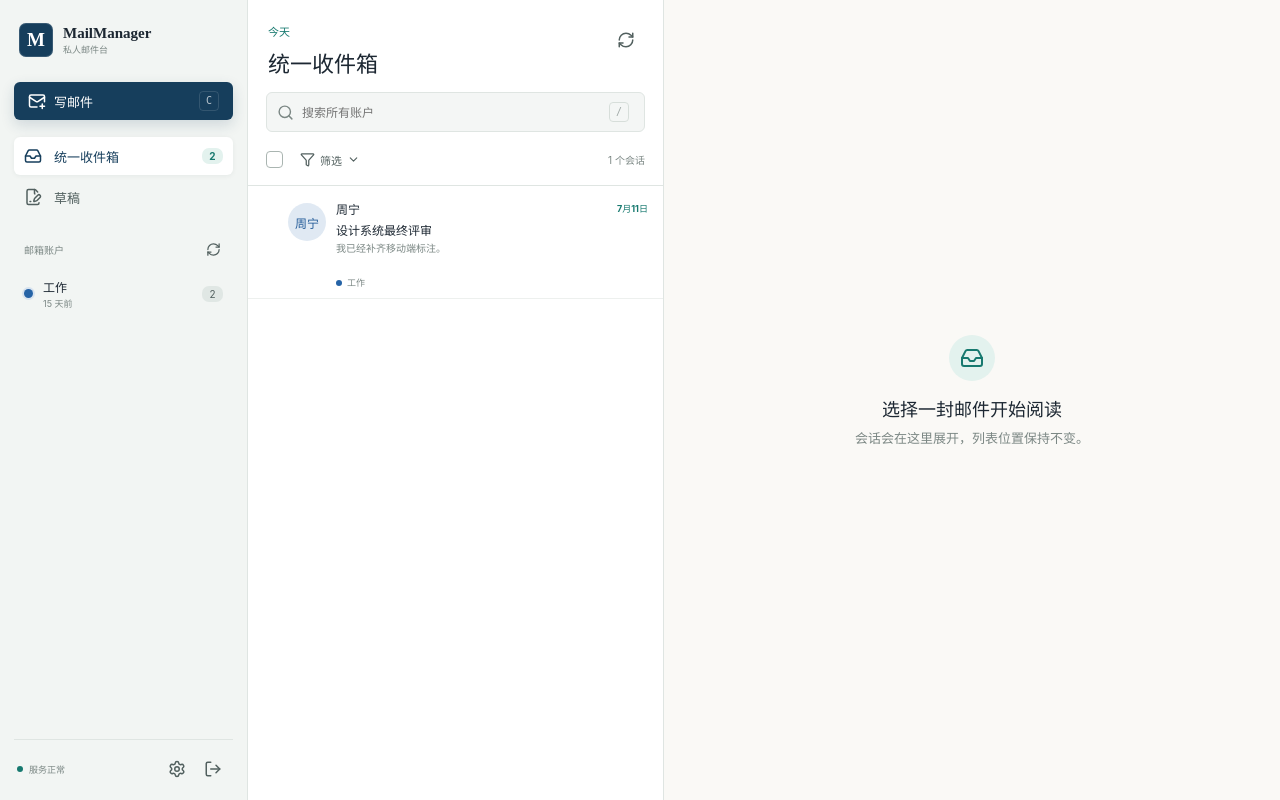
Test: MailManager frontend › recovers an offline draft from the draft list after closing the inline composer
Expected: the heading "统一收件箱" is shown, x1=268 y1=46 x2=378 y2=78
Click the button with class "compose-button": [124, 101] box x1=14 y1=82 x2=233 y2=120
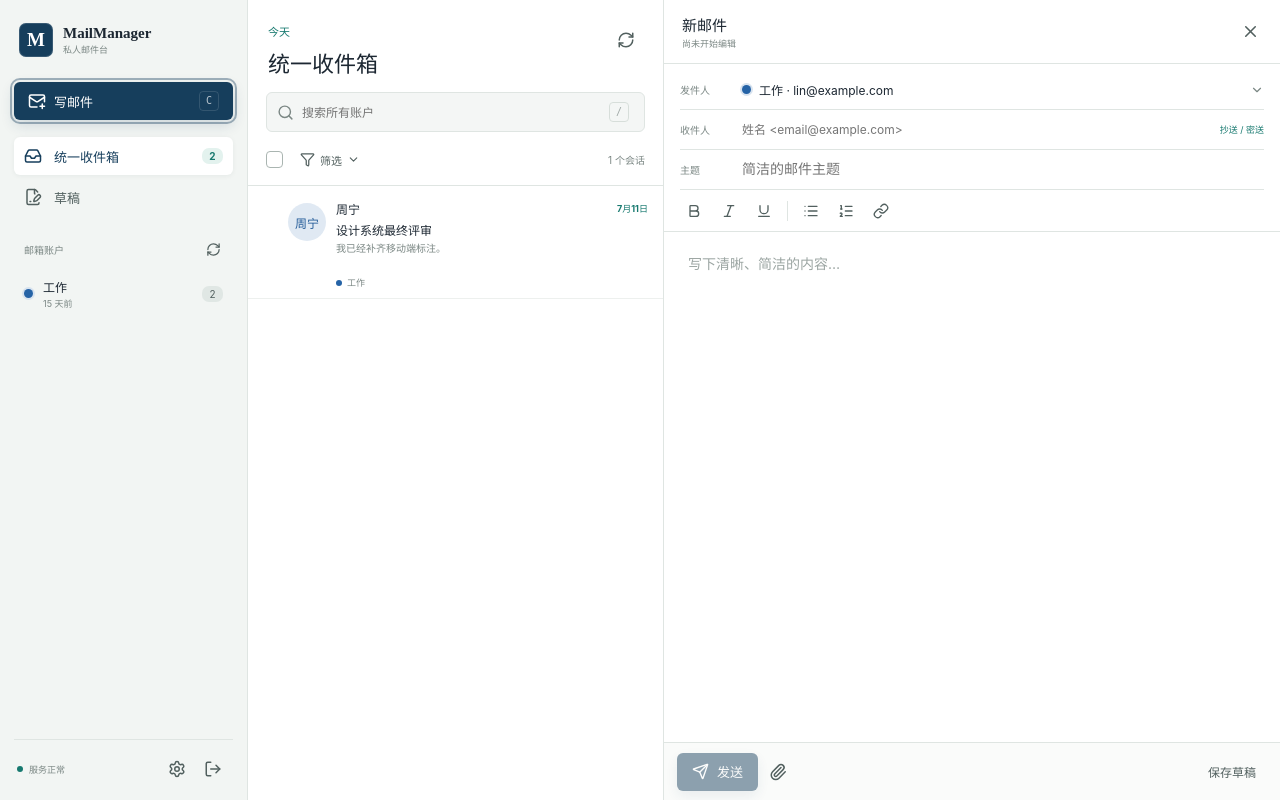
In the field labelled "主题": [1003, 170] box x1=742 y1=150 x2=1264 y2=188, type "误触恢复草稿"
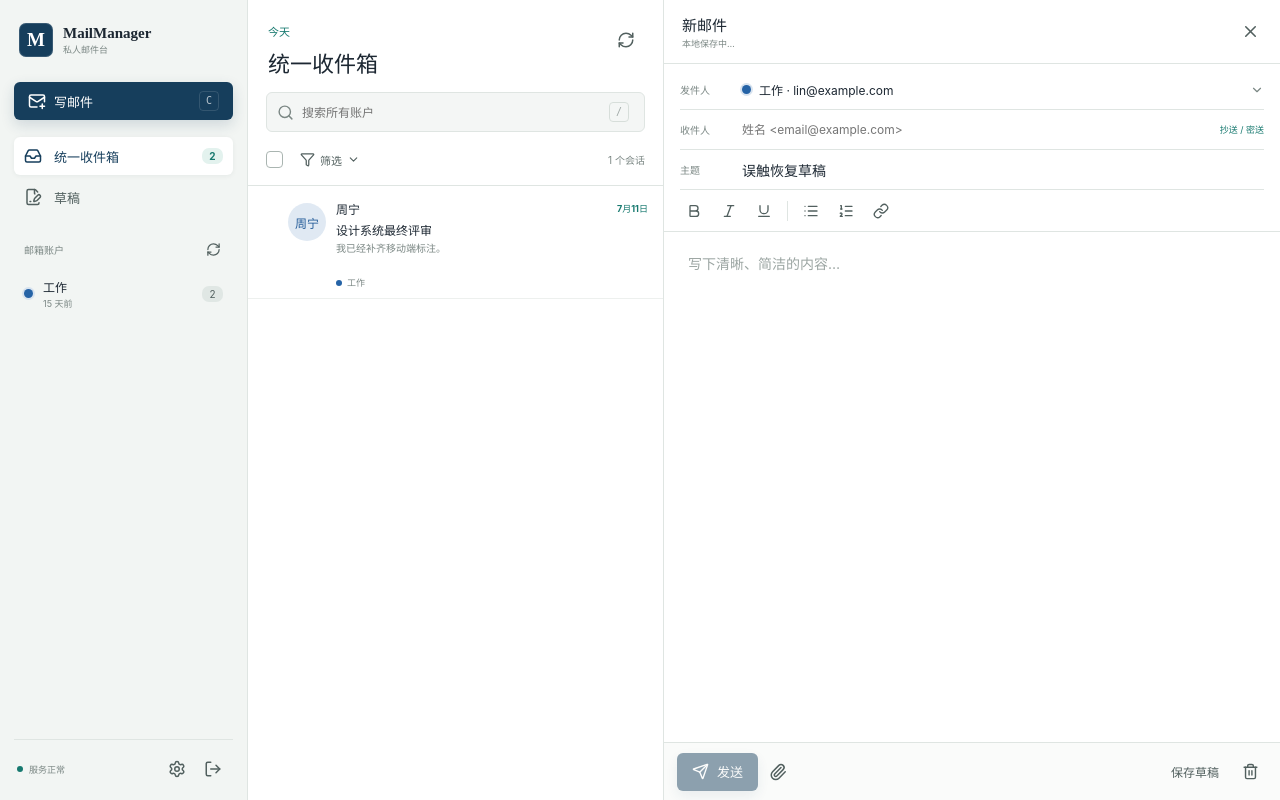
Click the button named "关闭写信": [1250, 32] box x1=1233 y1=14 x2=1267 y2=48
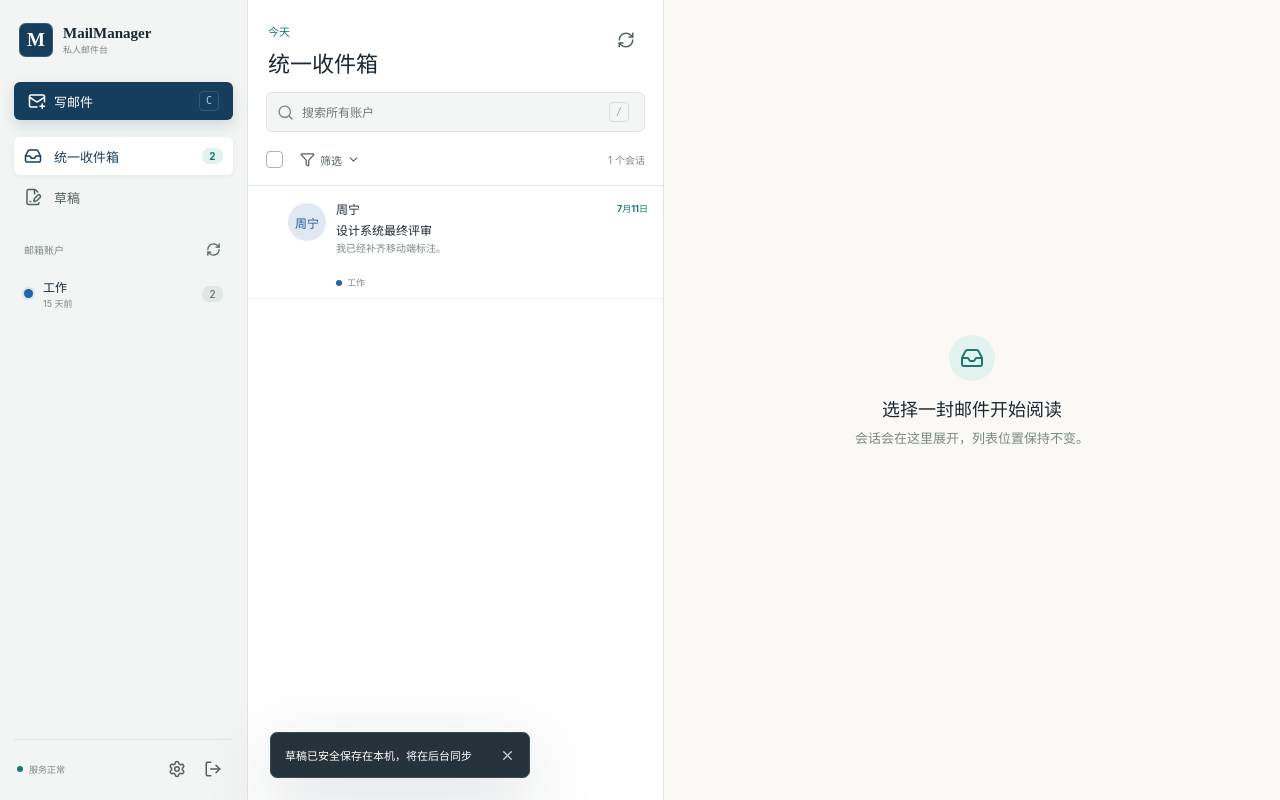
Expected: the heading "新邮件" is gone
Click the button "草稿": [124, 197] box x1=14 y1=178 x2=233 y2=216
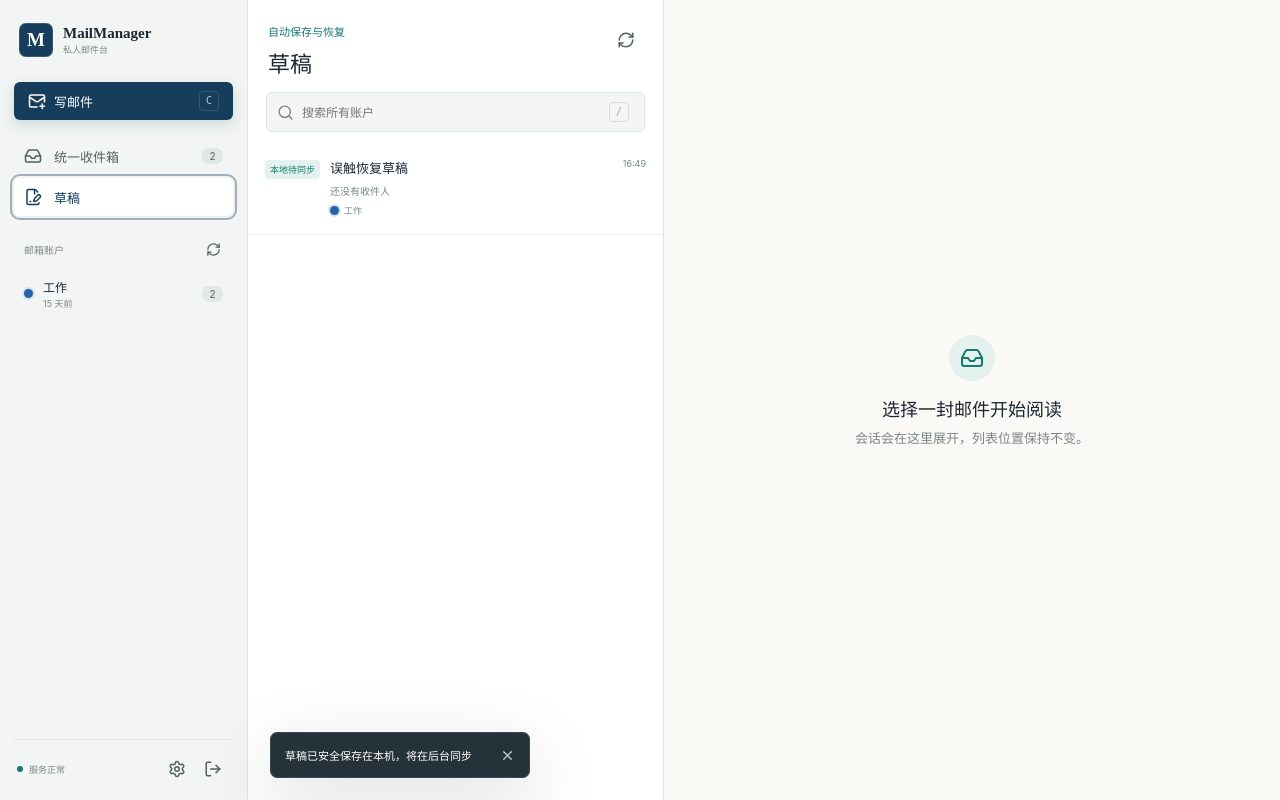
Expected: the text "本地待同步" is shown, x1=265 y1=160 x2=320 y2=179
Click the button "本地待同步 误触恢复草稿 还没有收件人 工作 16:49": [293, 170] box x1=248 y1=143 x2=663 y2=235
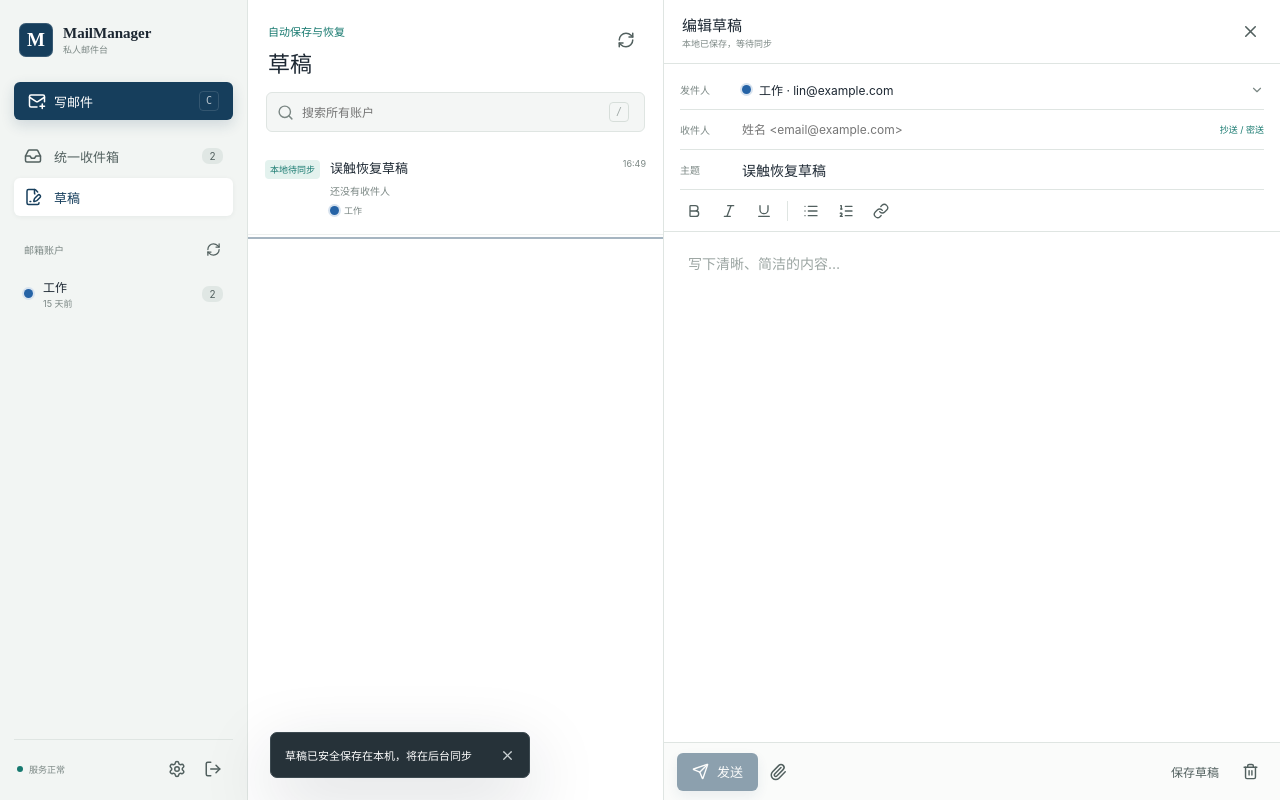
Expected: the field labelled "主题" holds "误触恢复草稿", x1=742 y1=150 x2=1264 y2=188
Expected: the element "编辑草稿" is shown, x1=664 y1=0 x2=1279 y2=799
